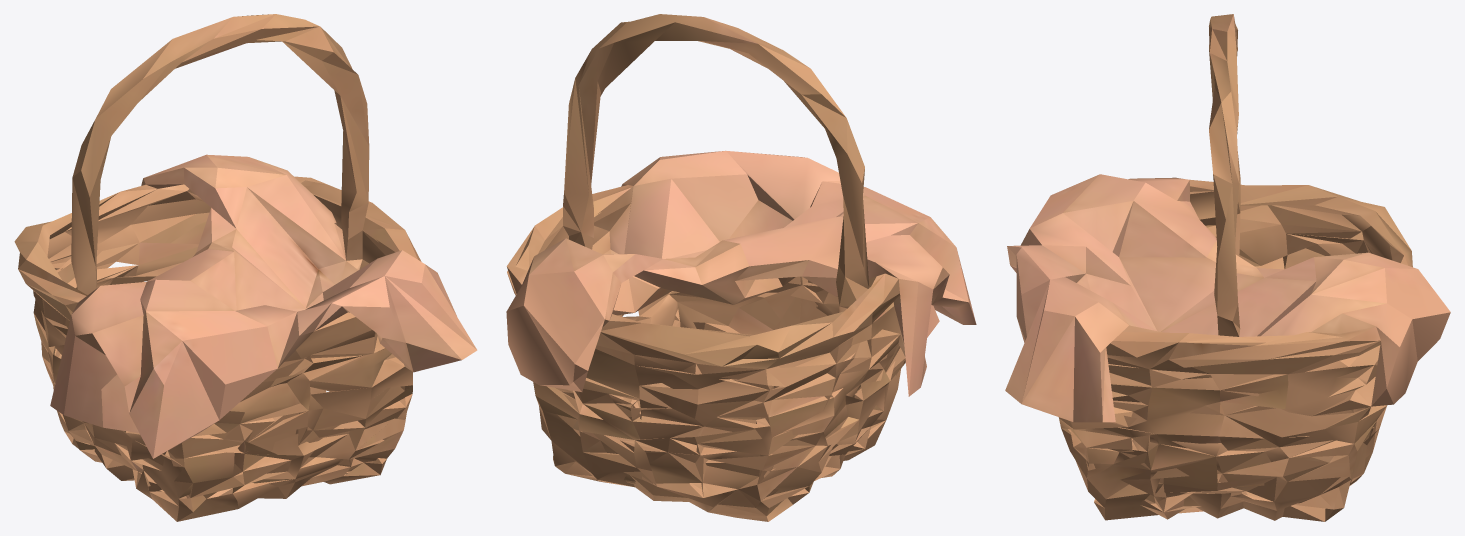
Rendered from picnicBasket.355d9cf2.glb.
The picture shows the model from 3 angles, left to right: view 1: azimuth 30°, elevation 25°; view 2: azimuth 150°, elevation 25°; view 3: azimuth 270°, elevation 25°; orthographic projection. The views are drawn at different scales.
Visible parts, largest first — view 1: output_unwrapped; view 2: output_unwrapped; view 3: output_unwrapped.
Boxes of the visible parts, x1,y1,x2,y2 form: output_unwrapped: [14, 14, 477, 521]; output_unwrapped: [506, 14, 976, 521]; output_unwrapped: [1005, 14, 1450, 521].
Bounding box in the file's own units: 1.62 × 1.9 × 1.71.
Materials: 1 (1 with a texture image).
